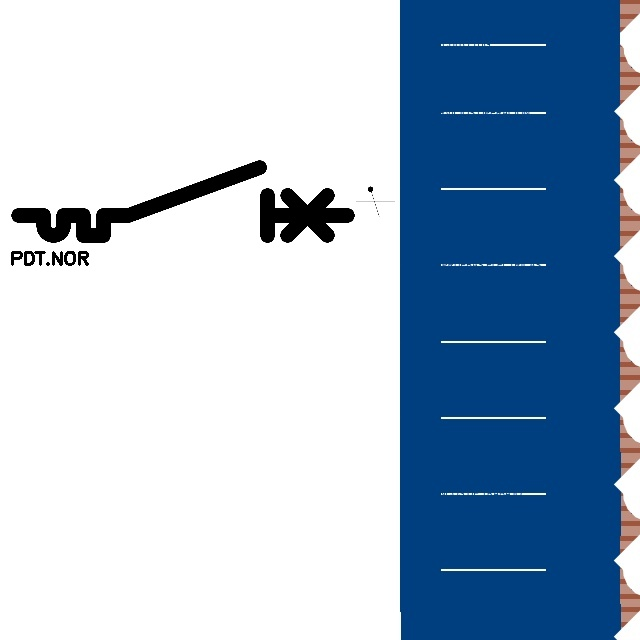interruptor_termomagnetico: (10, 159, 356, 244)
